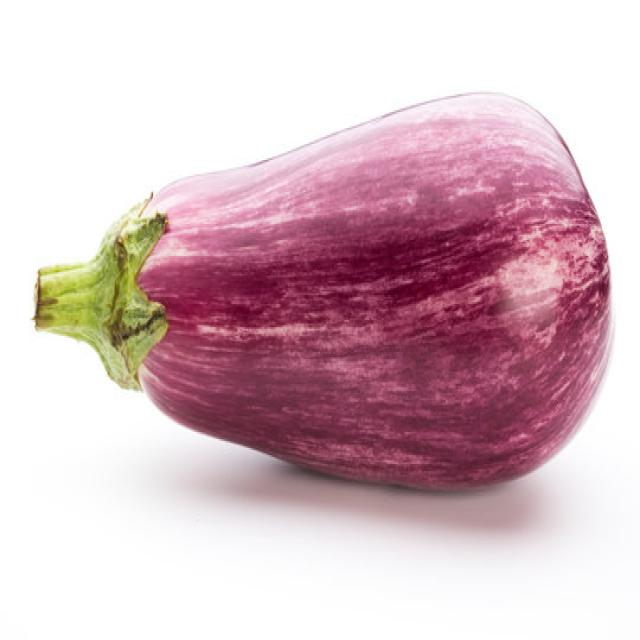Eggplant: (32, 89, 614, 492)
